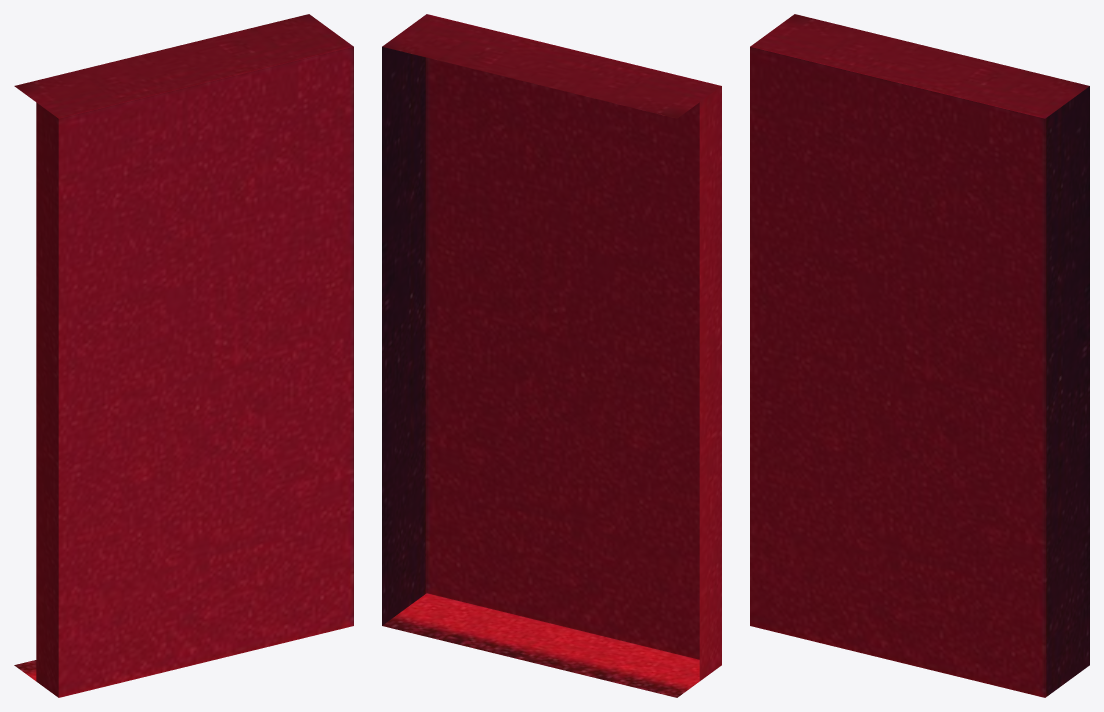
Rendered from france_red.glb.
3 views of the same model, side by side, from view 1: azimuth 30°, elevation 25°; view 2: azimuth 150°, elevation 25°; view 3: azimuth 330°, elevation 25° (orthographic).
Visible parts, largest first — view 1: france_red; view 2: france_red; view 3: france_red.
Boxes of the visible parts, x1,y1,x2,y2 form: france_red: (14,14,353,697); france_red: (382,14,721,697); france_red: (750,14,1089,697).
Size of the model in its own units: 0.4267 by 0.8 by 0.112.
Materials: 1 (1 with a texture image).
